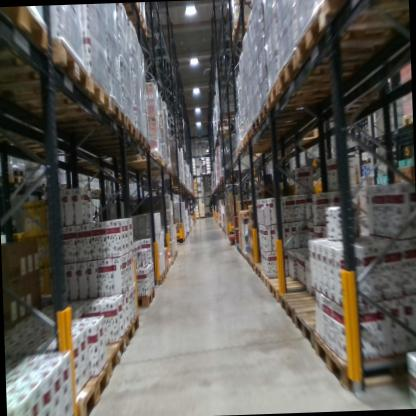pallet: (314, 320, 415, 400), (279, 38, 402, 97), (0, 41, 92, 113), (293, 5, 390, 65), (21, 74, 113, 131), (263, 71, 370, 118), (0, 6, 60, 67), (48, 97, 128, 140), (62, 357, 113, 416), (259, 100, 356, 125), (294, 304, 337, 354), (80, 111, 137, 146), (281, 288, 323, 333), (86, 334, 126, 380), (322, 0, 409, 19), (94, 129, 147, 154), (268, 275, 309, 307), (94, 142, 153, 159), (241, 129, 282, 149), (124, 308, 144, 348), (286, 126, 322, 148), (123, 12, 153, 38), (250, 113, 288, 133), (126, 149, 163, 169), (228, 17, 253, 46), (131, 286, 156, 312), (246, 123, 283, 140), (255, 261, 283, 282), (262, 269, 285, 290), (121, 3, 147, 16), (237, 207, 256, 224), (11, 175, 29, 186), (154, 270, 166, 286), (402, 111, 413, 127), (244, 252, 253, 271), (31, 180, 50, 188), (249, 259, 257, 274), (162, 263, 170, 278), (165, 256, 172, 272), (87, 186, 97, 195), (96, 186, 103, 194), (242, 250, 247, 261)
